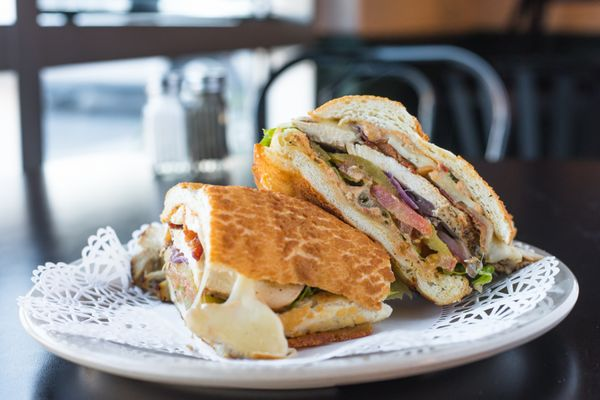soup: (251, 93, 526, 306), (144, 182, 395, 358)
